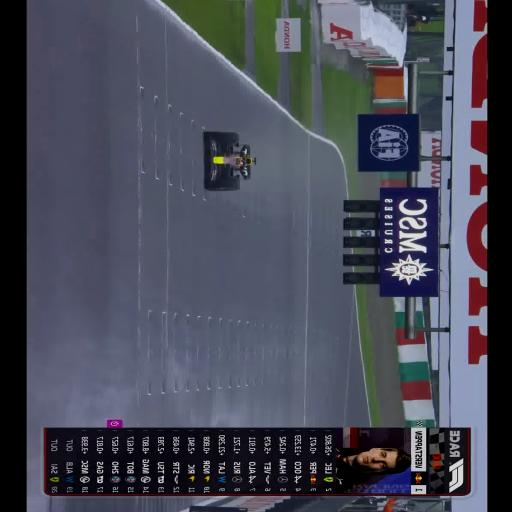f1_car: (204, 132, 255, 191)
